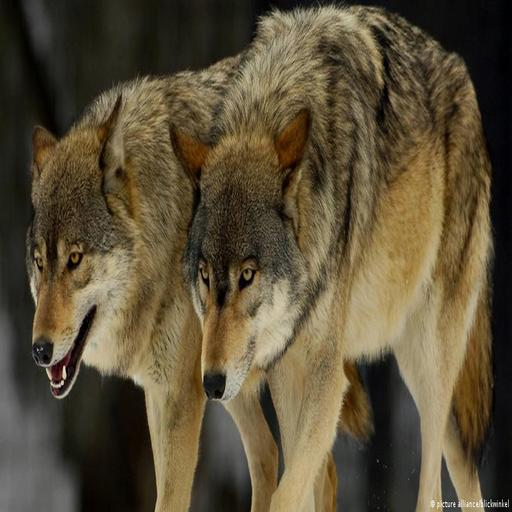Wolf: (16, 33, 434, 512), (175, 9, 512, 505)
